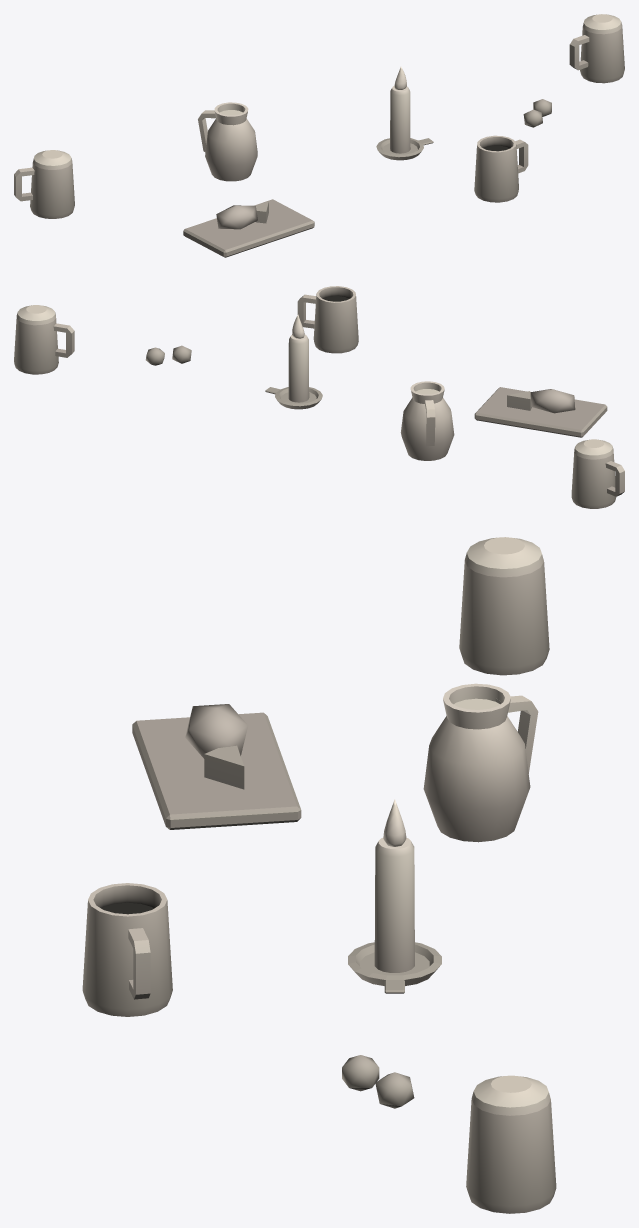
The model's file is SM_VKI_Prop_TableDress_Tavern_B.fbx.
The picture shows the model from 3 angles, top to bottom: view 1: azimuth 30°, elevation 25°; view 2: azimuth 150°, elevation 25°; view 3: azimuth 270°, elevation 25°; orthographic projection. The views are drawn at different scales.
Visible parts, largest first — view 1: SM_VKI_Prop_TableDress_Tavern_B.001; view 2: SM_VKI_Prop_TableDress_Tavern_B.001; view 3: SM_VKI_Prop_TableDress_Tavern_B.001.
Part boxes in pixels (left/top/right/bottom): SM_VKI_Prop_TableDress_Tavern_B.001: left=14, top=14, right=624, bottom=257; SM_VKI_Prop_TableDress_Tavern_B.001: left=14, top=286, right=624, bottom=508; SM_VKI_Prop_TableDress_Tavern_B.001: left=82, top=537, right=556, bottom=1213.
Size of the model in its own units: 2.04 by 0.277 by 0.692.
